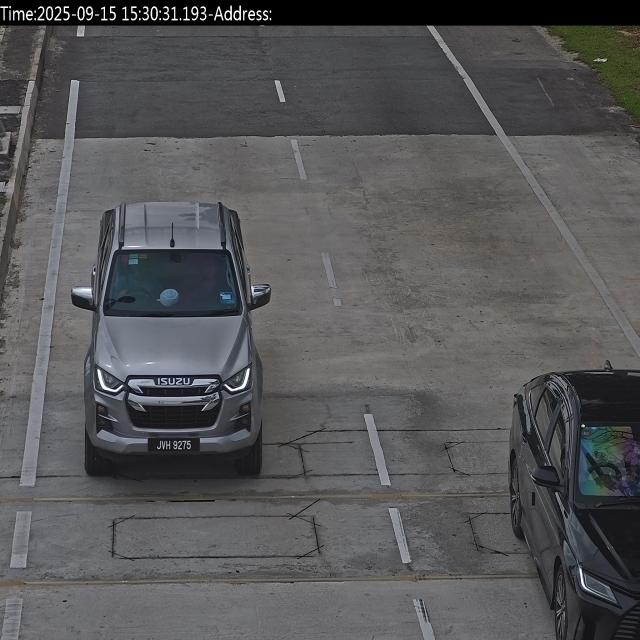front: (132, 428, 214, 461)
